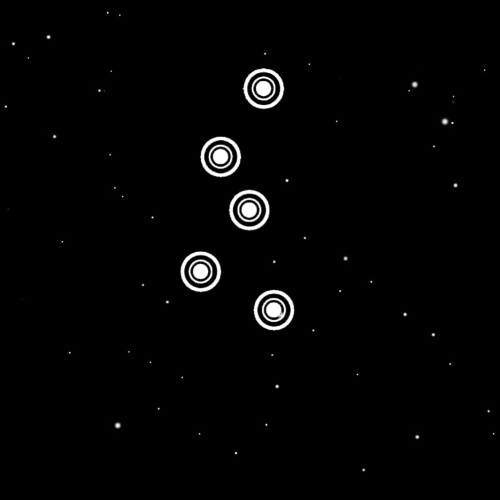cassiopeia: (172, 50, 306, 345)
